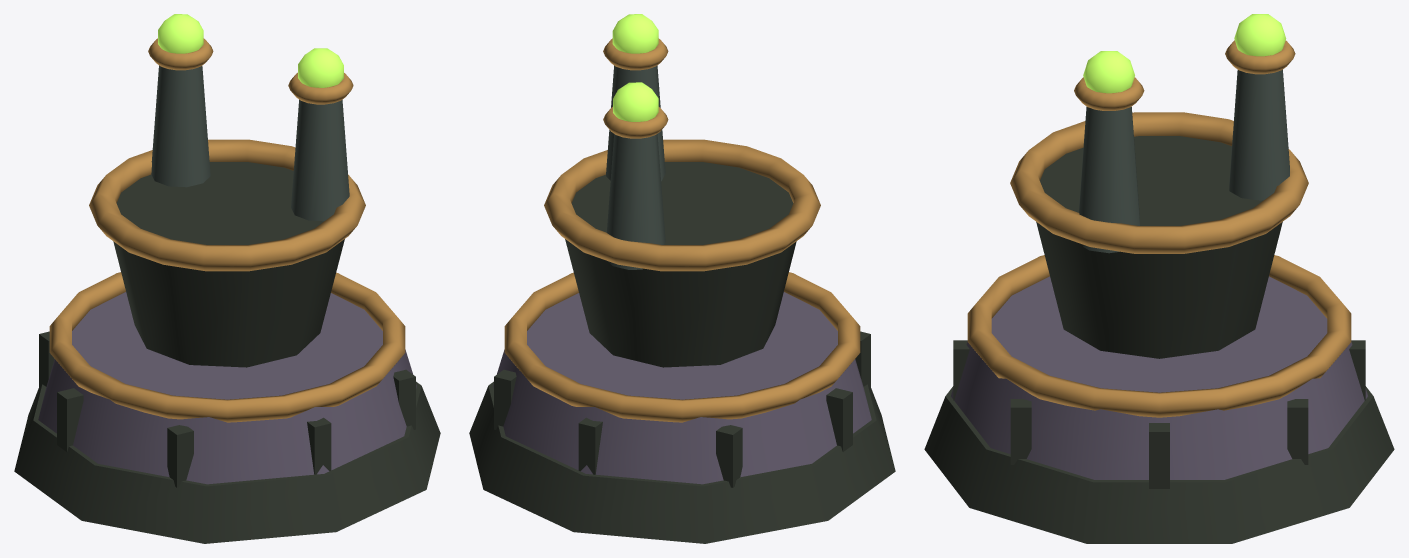
Rendered from tower_poison_poisonSpore.glb.
3 renders of one model, left to right at view 1: azimuth 30°, elevation 25°; view 2: azimuth 150°, elevation 25°; view 3: azimuth 270°, elevation 25°, orthographic. The views are drawn at different scales.
Parts seen in each view (by area): view 1: stone_1, vessel_11, foot_0, rim_2, vessel_lip_13, chimney_14, chimney_17, spore_19, spore_16, mortar_6, mortar_7, vent_15 (+4 smaller); view 2: stone_1, vessel_11, foot_0, vessel_lip_13, rim_2, chimney_14, spore_19, spore_16, chimney_17, mortar_8, mortar_7, vent_18 (+4 smaller); view 3: stone_1, vessel_11, foot_0, rim_2, vessel_lip_13, chimney_14, chimney_17, spore_19, spore_16, mortar_3, vent_15, vent_18 (+4 smaller).
Part boxes in pixels (bbox=[...]): stone_1: bbox=[38, 292, 416, 484]; vessel_11: bbox=[113, 162, 344, 367]; foot_0: bbox=[14, 381, 440, 543]; rim_2: bbox=[49, 272, 405, 422]; vessel_lip_13: bbox=[89, 139, 365, 271]; chimney_14: bbox=[151, 65, 210, 187]; chimney_17: bbox=[291, 99, 349, 221]; spore_19: bbox=[298, 48, 343, 87]; spore_16: bbox=[158, 14, 203, 53]; mortar_6: bbox=[167, 425, 193, 487]; mortar_7: bbox=[57, 388, 83, 451]; vent_15: bbox=[148, 38, 213, 70]; stone_1: bbox=[493, 292, 871, 484]; vessel_11: bbox=[565, 162, 796, 367]; foot_0: bbox=[469, 381, 895, 543]; vessel_lip_13: bbox=[544, 139, 820, 271]; rim_2: bbox=[504, 272, 860, 422]; chimney_14: bbox=[606, 134, 665, 269]; spore_19: bbox=[612, 14, 658, 53]; spore_16: bbox=[613, 82, 658, 121]; chimney_17: bbox=[606, 65, 665, 181]; mortar_8: bbox=[716, 425, 742, 487]; mortar_7: bbox=[826, 388, 852, 451]; vent_18: bbox=[603, 38, 668, 70]; stone_1: bbox=[951, 276, 1367, 479]; vessel_11: bbox=[1036, 136, 1282, 358]; foot_0: bbox=[924, 386, 1394, 543]; rim_2: bbox=[967, 255, 1351, 417]; vessel_lip_13: bbox=[1010, 112, 1308, 253]; chimney_14: bbox=[1229, 69, 1289, 200]; chimney_17: bbox=[1078, 106, 1139, 253]; spore_19: bbox=[1083, 51, 1134, 93]; spore_16: bbox=[1234, 14, 1286, 56]; mortar_3: bbox=[1149, 423, 1169, 488]; vent_15: bbox=[1225, 40, 1295, 74]; vent_18: bbox=[1074, 77, 1144, 110].
Size of the model in its own units: 0.5326 by 0.571 by 0.56.
